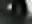person: (24, 1, 32, 18), (18, 5, 23, 16), (8, 5, 14, 14)
